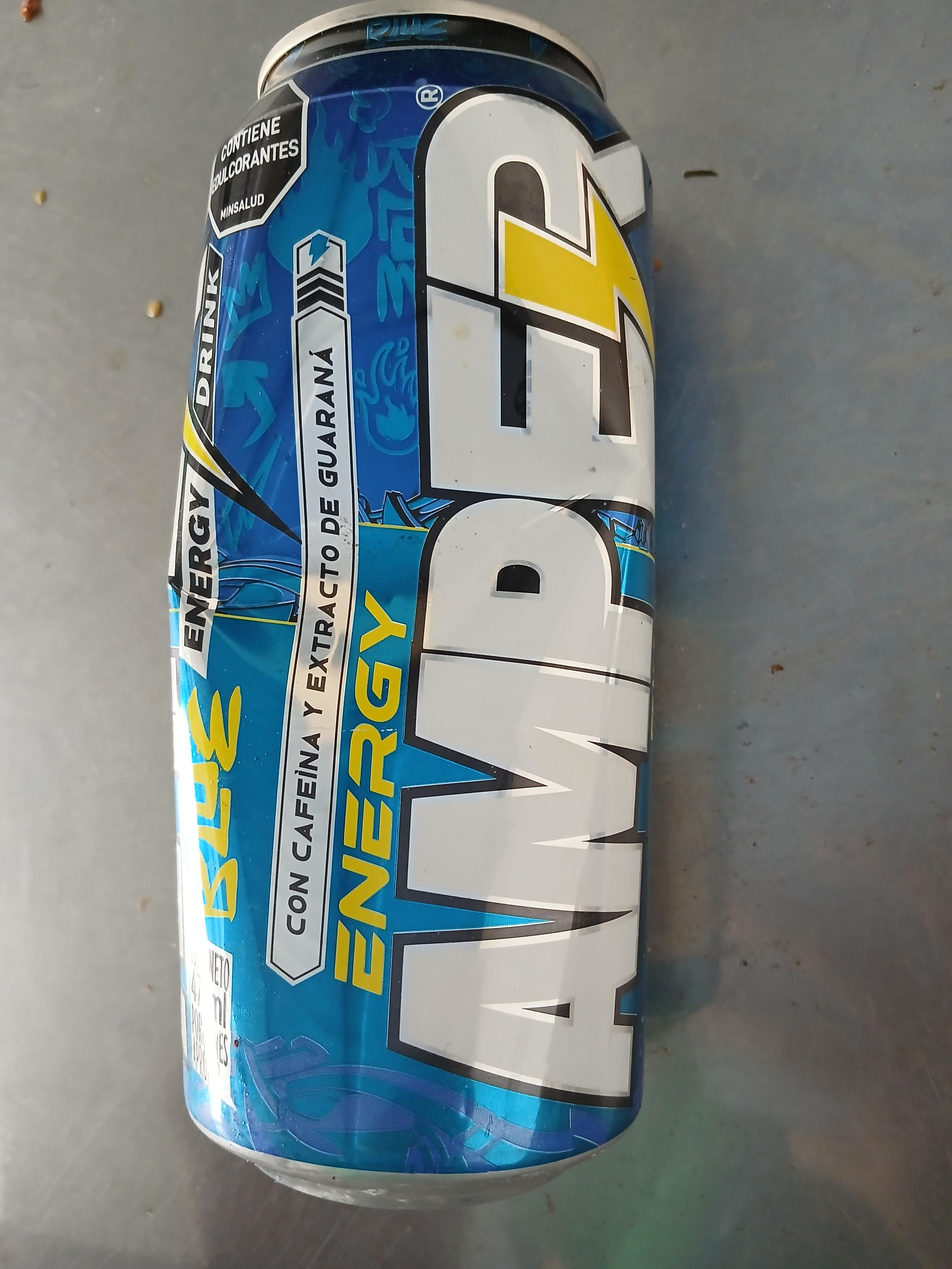Metal: (168, 11, 651, 1209)
